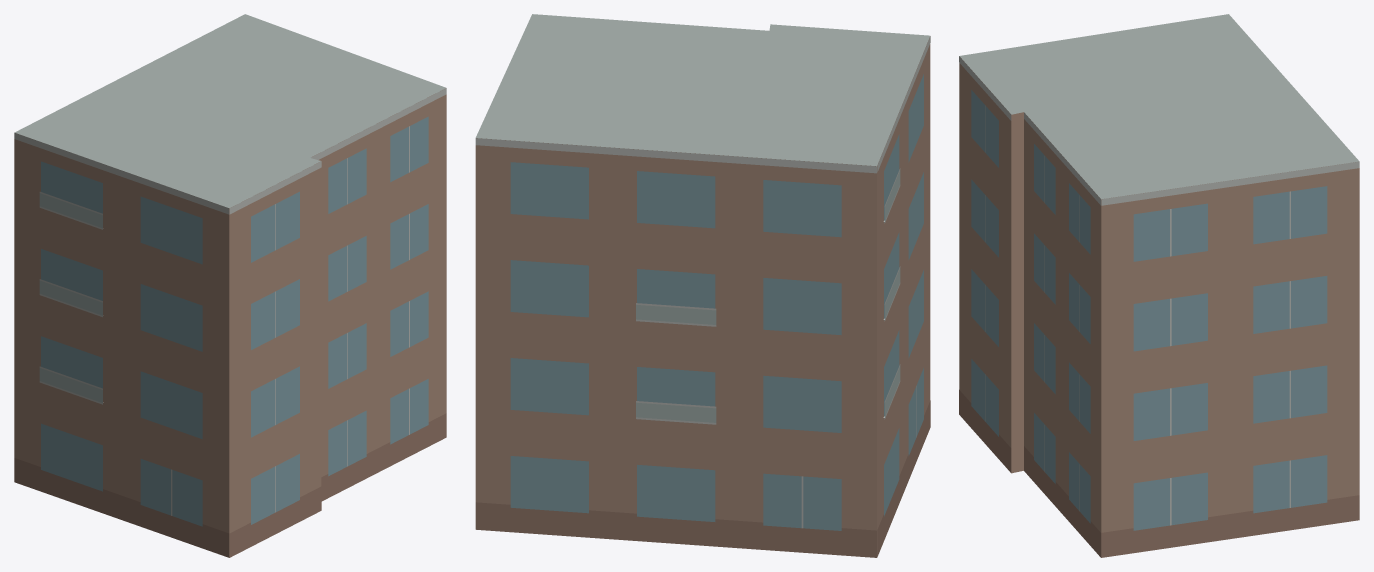
The model's file is survey-upis-33027458.glb.
The picture shows the model from 3 angles, left to right: view 1: azimuth 30°, elevation 25°; view 2: azimuth 150°, elevation 25°; view 3: azimuth 270°, elevation 25°; orthographic projection. The views are drawn at different scales.
Parts seen in each view (by area): view 1: survey-upis-33027458.tmp; view 2: survey-upis-33027458.tmp; view 3: survey-upis-33027458.tmp.
Part boxes in pixels (left/top/right/bottom): survey-upis-33027458.tmp: left=14, top=14, right=446, bottom=557; survey-upis-33027458.tmp: left=475, top=14, right=930, bottom=557; survey-upis-33027458.tmp: left=959, top=14, right=1359, bottom=557.
Size of the model in its own units: 14.74 by 13.3 by 13.47.
